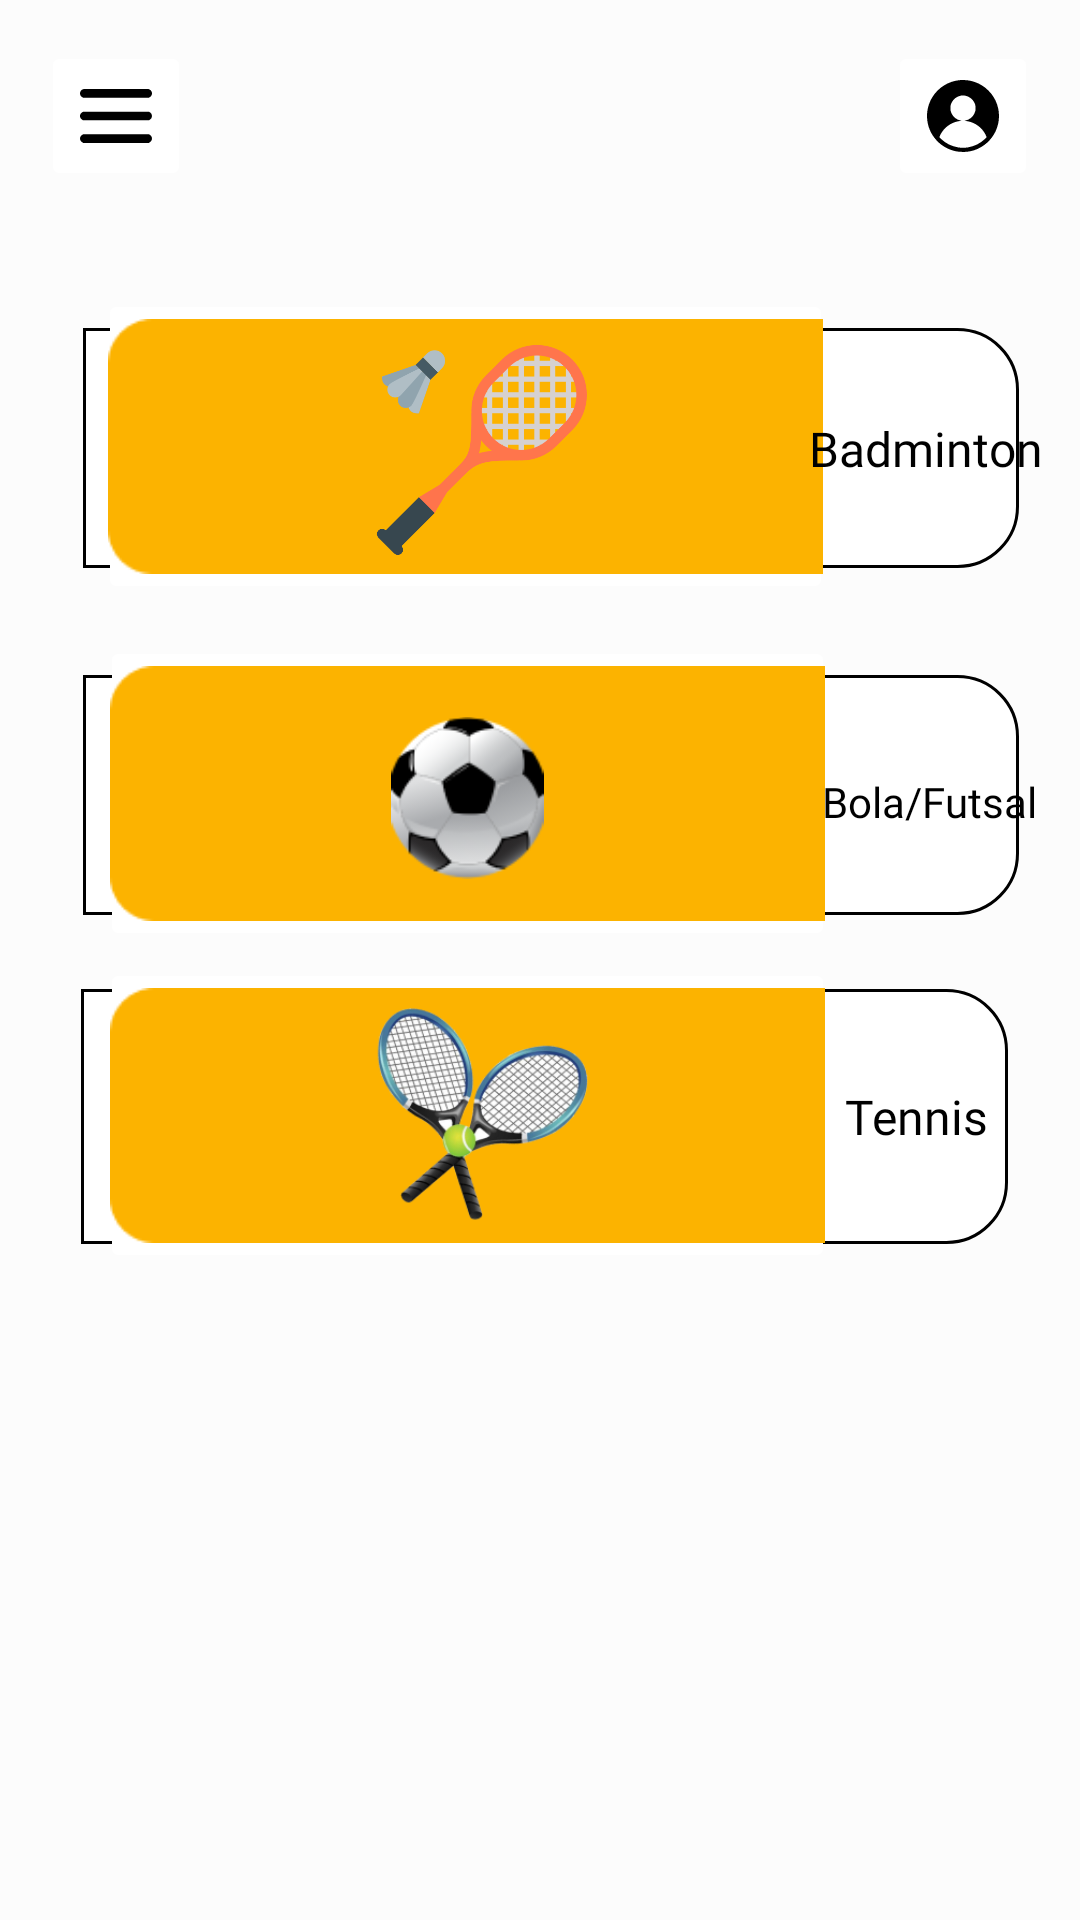

Screen size 1080x1920. Icon name, then its box in pixels as (left=x1, top=y1, right=x2, bottom=y2):
menu: (left=80, top=89, right=152, bottom=143)
profile: (left=927, top=80, right=999, bottom=152)
